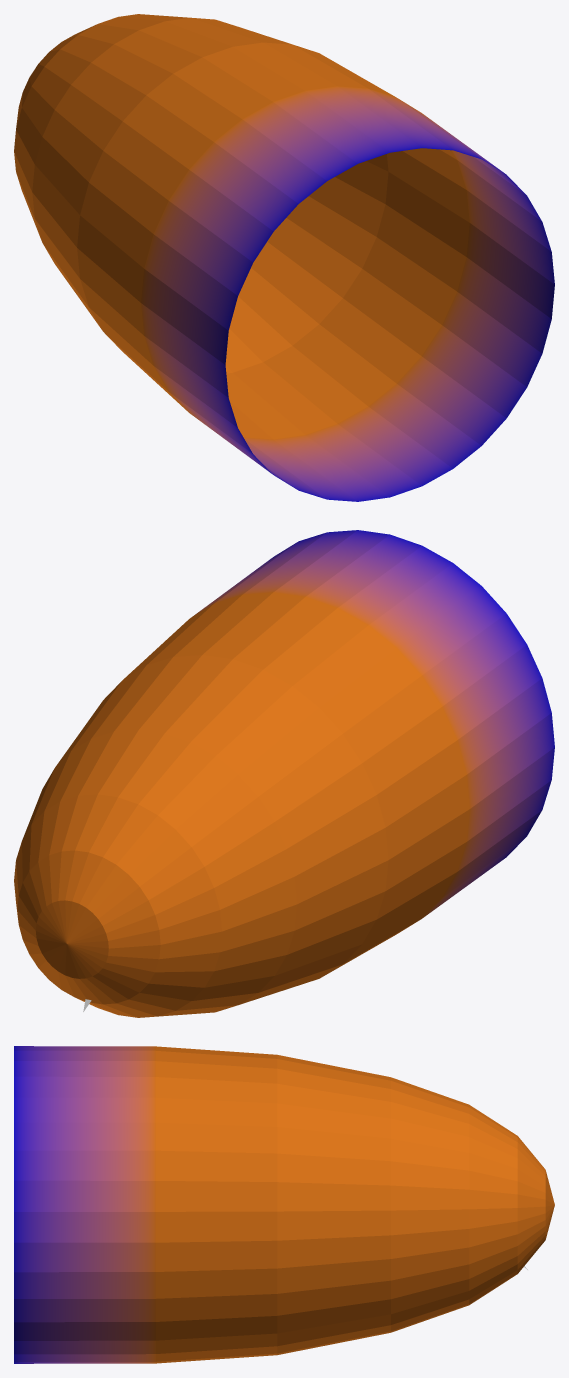
File: pref_fx_greedent_spell01A_atk02_lv1.fbx
3 views of the same model, one above another, from view 1: azimuth 30°, elevation 25°; view 2: azimuth 150°, elevation 25°; view 3: azimuth 270°, elevation 25° (orthographic). The views are drawn at different scales.
Parts seen in each view (by area): view 1: gq; view 2: gq; view 3: gq.
Part boxes in pixels (box(x1,y1,x2,y2)): gq: box(14, 14, 554, 501); gq: box(14, 530, 554, 1017); gq: box(14, 1046, 554, 1363).
Size of the model in its own units: 1.12 by 1.12 by 1.91.
